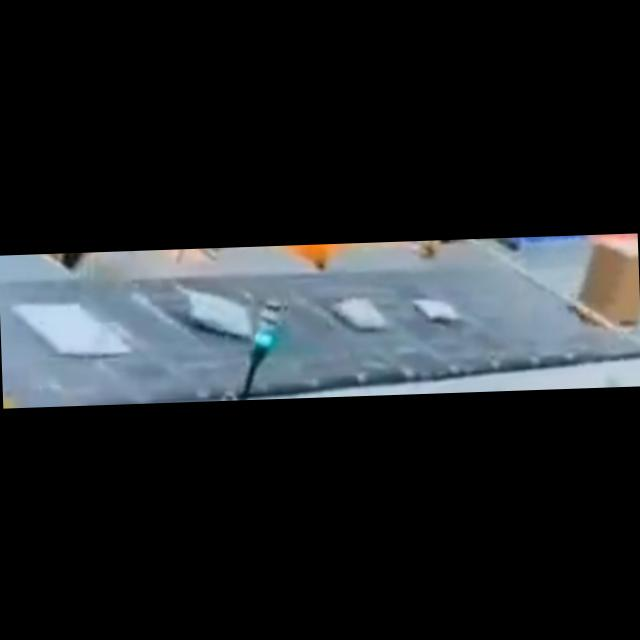mailer: (15, 292, 128, 358), (576, 234, 640, 330), (185, 286, 258, 338), (336, 296, 382, 329), (414, 294, 456, 324)
